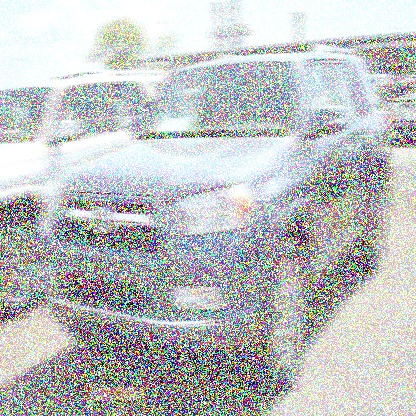Vehicle: (36, 41, 390, 390)
